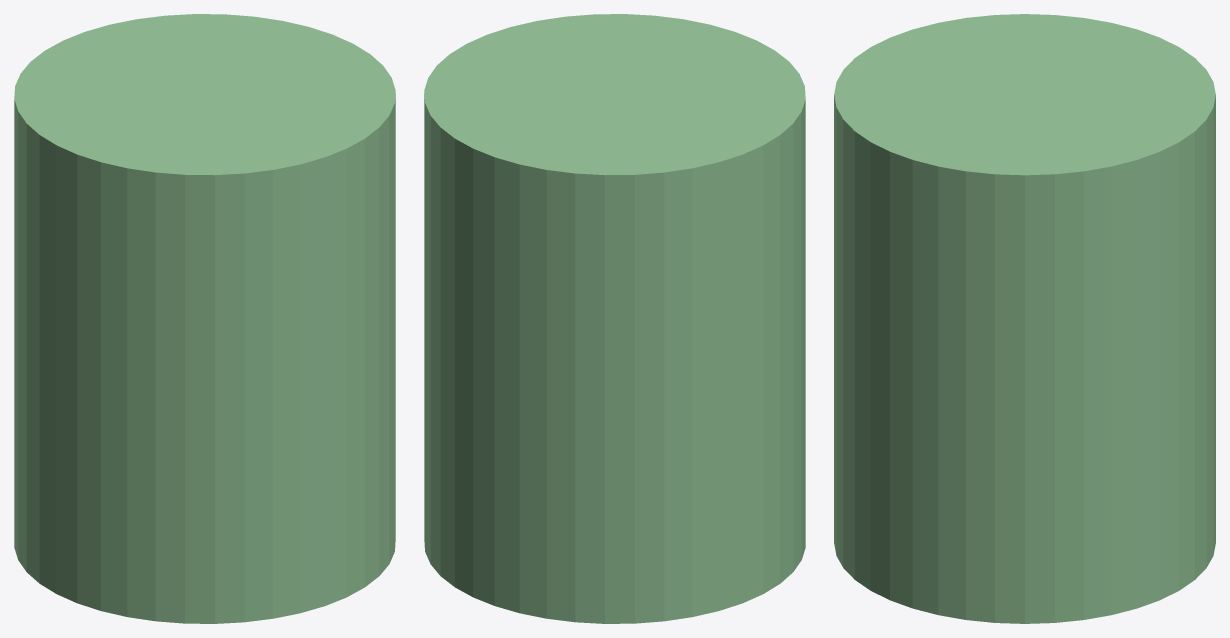
File: rec_glass_jar_0087.glb
3 renders of one model, left to right at view 1: azimuth 30°, elevation 25°; view 2: azimuth 150°, elevation 25°; view 3: azimuth 270°, elevation 25°, orthographic.
Parts seen in each view (by area): view 1: z-up-to-y-up; view 2: z-up-to-y-up; view 3: z-up-to-y-up.
Part boxes in pixels (box(x1,y1,x2,y2)): z-up-to-y-up: box(14, 14, 395, 623); z-up-to-y-up: box(424, 14, 805, 623); z-up-to-y-up: box(834, 14, 1215, 623).
Size of the model in its own units: 0.0753 by 0.0976 by 0.0753.
